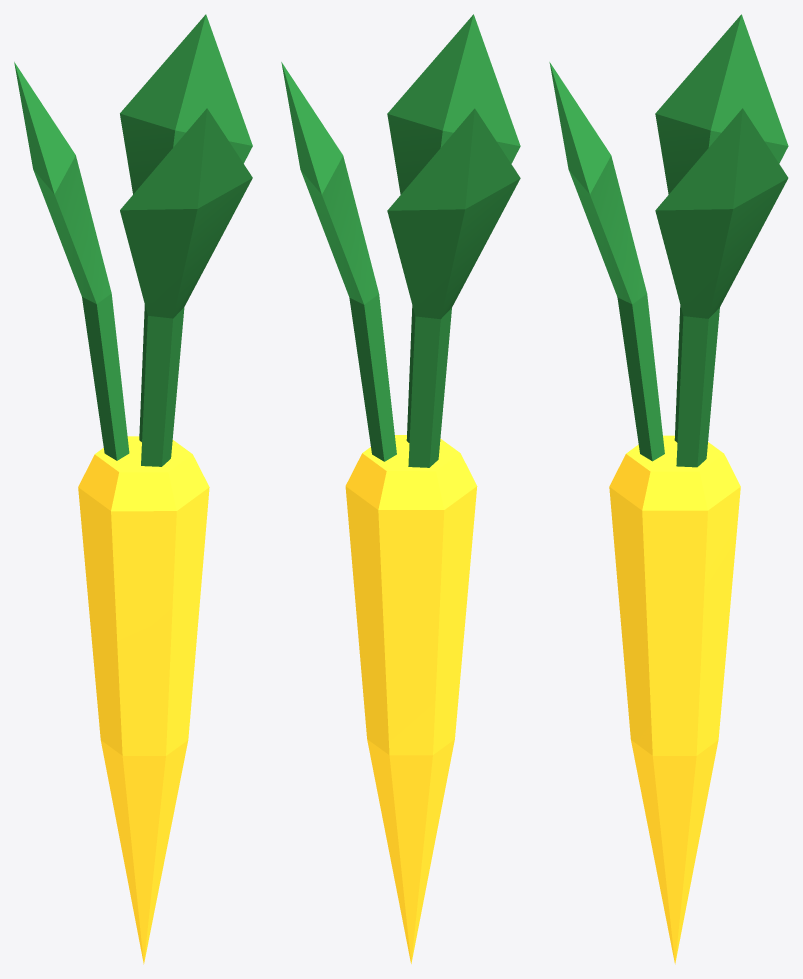
File: carrot-gold.glb
The picture shows the model from 3 angles, left to right: view 1: azimuth 30°, elevation 25°; view 2: azimuth 150°, elevation 25°; view 3: azimuth 270°, elevation 25°; orthographic projection.
Visible parts, largest first — view 1: carrot, obj01, obj03, obj02; view 2: carrot, obj03, obj02, obj01; view 3: carrot, obj02, obj01, obj03.
Part boxes in pixels (x1,y1,x2,y2): carrot: [78, 436, 209, 964]; obj01: [120, 108, 252, 466]; obj03: [14, 62, 129, 460]; obj02: [120, 14, 252, 441]; carrot: [345, 435, 477, 963]; obj03: [387, 108, 520, 467]; obj02: [281, 62, 396, 461]; obj01: [387, 14, 520, 443]; carrot: [609, 435, 740, 964]; obj02: [655, 108, 788, 467]; obj01: [549, 62, 664, 461]; obj03: [655, 14, 788, 442].
Size of the model in its own units: 0.2357 by 1.03 by 0.2458.
